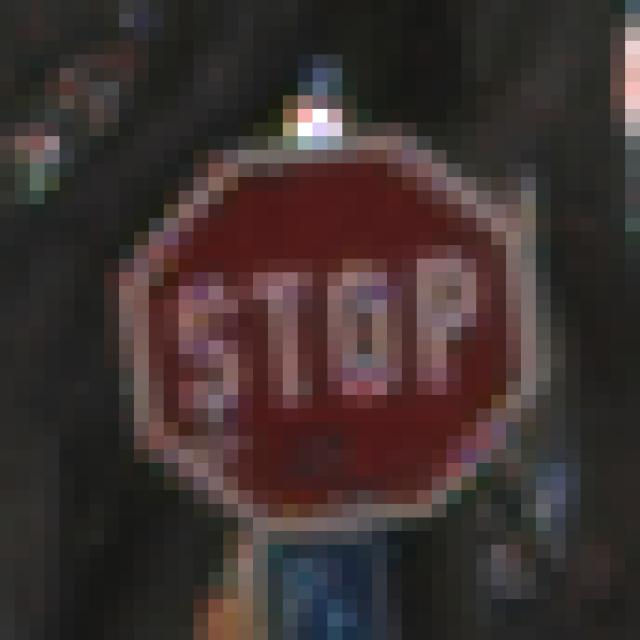STOP: (90, 83, 567, 573)
